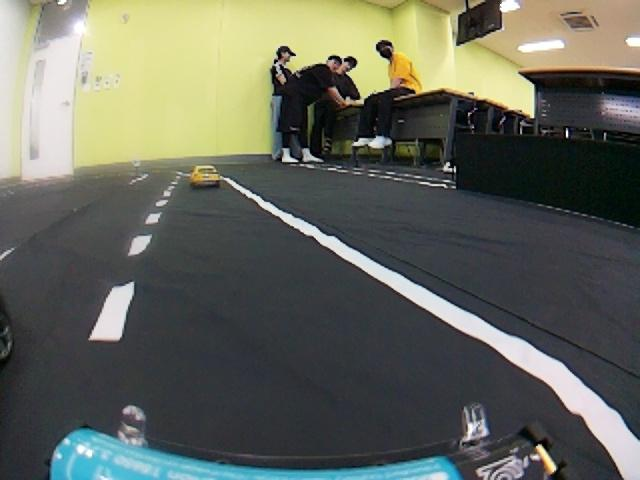straight: (0, 187, 640, 476)
